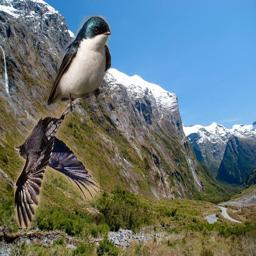Crow: (14, 102, 100, 228)
Swallow: (46, 15, 111, 112)
